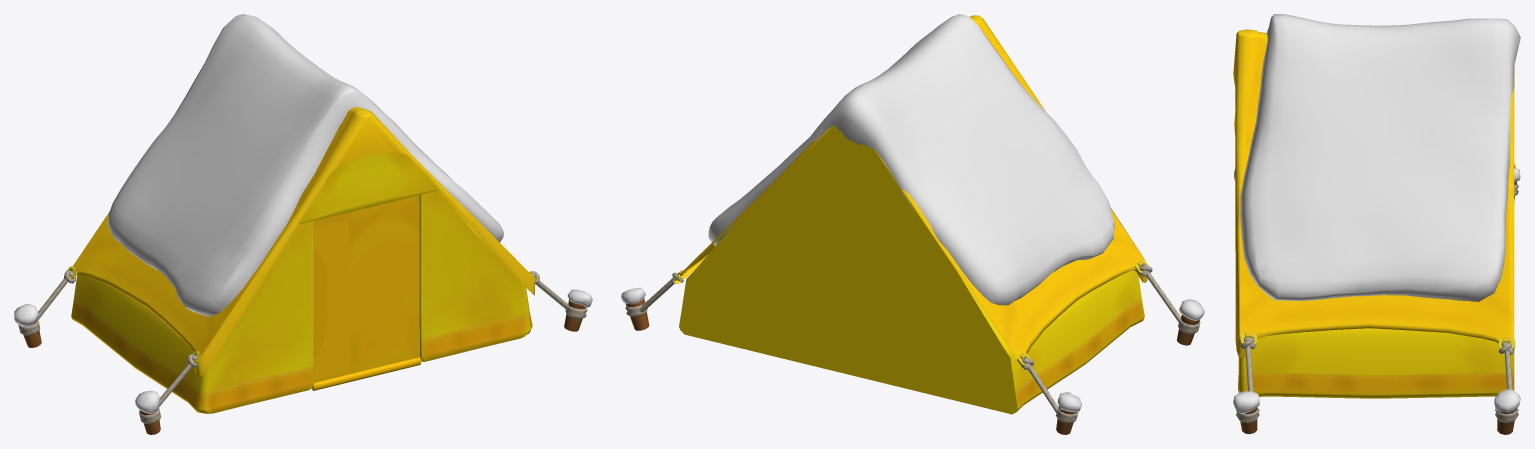
File: tent.glb
3 views of the same model, side by side, from view 1: azimuth 30°, elevation 25°; view 2: azimuth 150°, elevation 25°; view 3: azimuth 270°, elevation 25° (orthographic). The views are drawn at different scales.
Visible parts, largest first — view 1: Back1__mTent, pCylinder26_1__mWinterSnow, Door, door1__mDoortent; view 2: Back1__mTent, pCylinder26_1__mWinterSnow; view 3: pCylinder26_1__mWinterSnow, Back1__mTent.
Part boxes in pixels (bbox=[...]): Back1__mTent: bbox=[18, 107, 587, 434]; pCylinder26_1__mWinterSnow: bbox=[14, 14, 592, 413]; Door: bbox=[313, 195, 419, 382]; door1__mDoortent: bbox=[311, 357, 421, 390]; Back1__mTent: bbox=[625, 15, 1200, 434]; pCylinder26_1__mWinterSnow: bbox=[621, 14, 1204, 412]; pCylinder26_1__mWinterSnow: bbox=[1233, 14, 1520, 413]; Back1__mTent: bbox=[1233, 29, 1518, 434].
Bounding box in the file's own units: 42.14 × 25.24 × 21.55.
5 materials, 3 textured.
